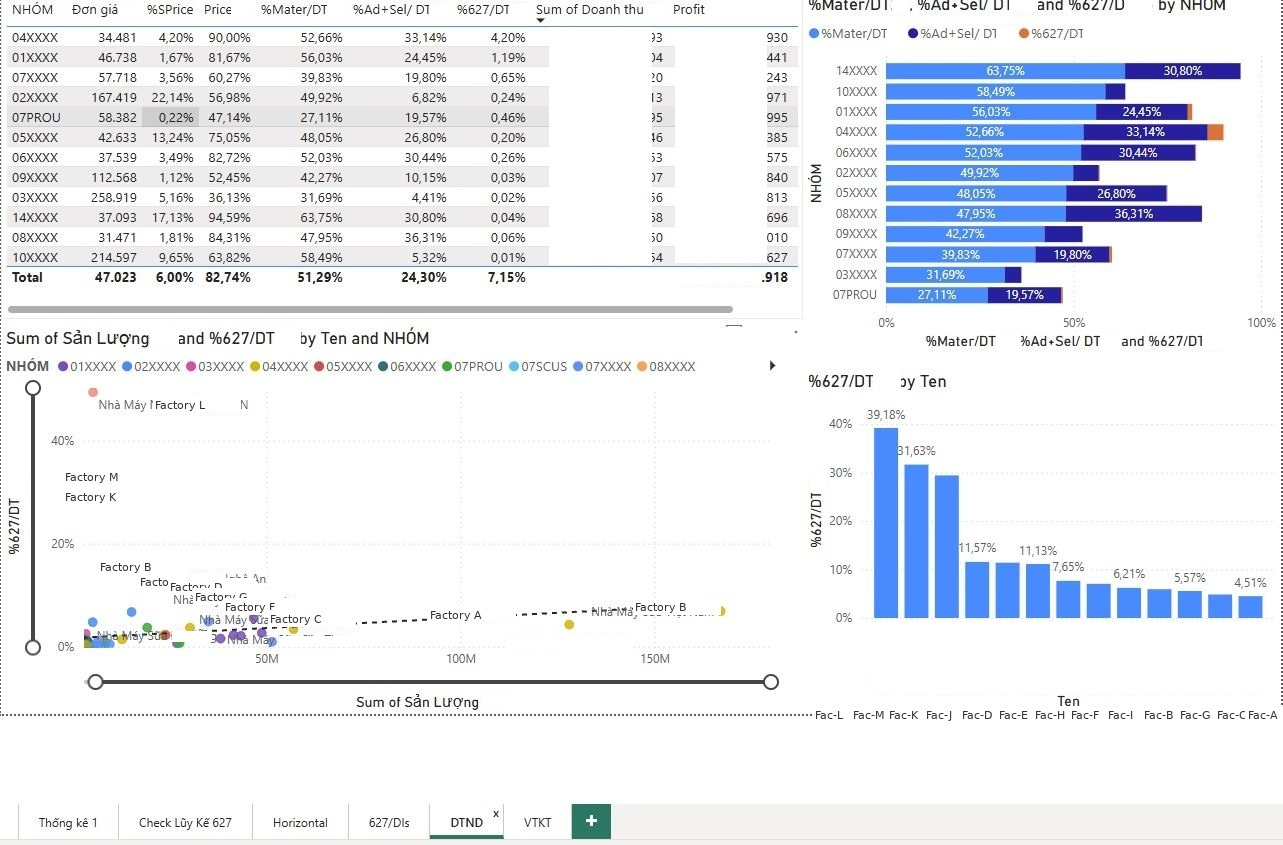

The dashboard page shown, as its layout file describes it:
{"tool":"powerbi","page":{"name":"DTND","canvas":[1280,720],"ordinal":5},"visuals":[{"type":"tableEx","fields":{"Values":["Nhóm SP.NHÓM","Sum(Sản Lượng Phân tích 25.Sản Lượng 25)","Sum(Sản Lượng Phân tích 24.Sản Lượng 24)","Doanh thu ND.Đơn giá 25","select","Doanh thu ND.Price25","Doanh thu ND.%Mater/DT25","Doanh thu ND.%Ad+Sel/ DT25","Doanh thu ND.%627/DT25","Sum(Doanh thu ND.Doanh thu 25)","Doanh thu ND.Profit25","Doanh thu ND.Đơn giá 24"]},"box":[0,0,801.6,325.4],"z":0},{"type":"scatterChart","fields":{"Y":["Doanh thu ND.%627/DT25"],"Series":["Nhóm SP.NHÓM"],"Category":["Org.Ten"],"X":["Sum(Sản Lượng Phân tích 25.Sản Lượng 25)"]},"box":[0,332.8,790.5,387.2],"z":2000},{"type":"columnChart","fields":{"Y":["Doanh thu ND.%627/DT25"],"Category":["Org.Ten"]},"box":[801.5,376.7,477.8,343.4],"z":3000},{"type":"barChart","fields":{"Category":["Nhóm SP.NHÓM"],"Y":["Sum(Sản Lượng Phân tích 25.Sản Lượng 25)","Sum(Sản Lượng Phân tích 24.Sản Lượng 24)","Doanh thu ND.%Mater/DT25","Doanh thu ND.%Ad+Sel/ DT25","Doanh thu ND.%627/DT25"]},"box":[801.6,0,478.1,360],"z":4000}]}

Visuals, with their boxes on the page's 1280x720 design canvas (x1, y1, x2, y2). These are canvas units, not pixel positions in the 1283x845 screenshot, which may show the page scaled, cropped or inside an application window:
tableEx - Nhóm SP.NHÓM x Sum(Sản Lượng Phân tích 25.Sản Lượng 25): Rect(0, 0, 802, 325)
scatterChart - Doanh thu ND.%627/DT25 x Nhóm SP.NHÓM: Rect(0, 333, 790, 720)
columnChart - Doanh thu ND.%627/DT25 x Org.Ten: Rect(802, 377, 1279, 720)
barChart - Nhóm SP.NHÓM x Sum(Sản Lượng Phân tích 25.Sản Lượng 25): Rect(802, 0, 1280, 360)
